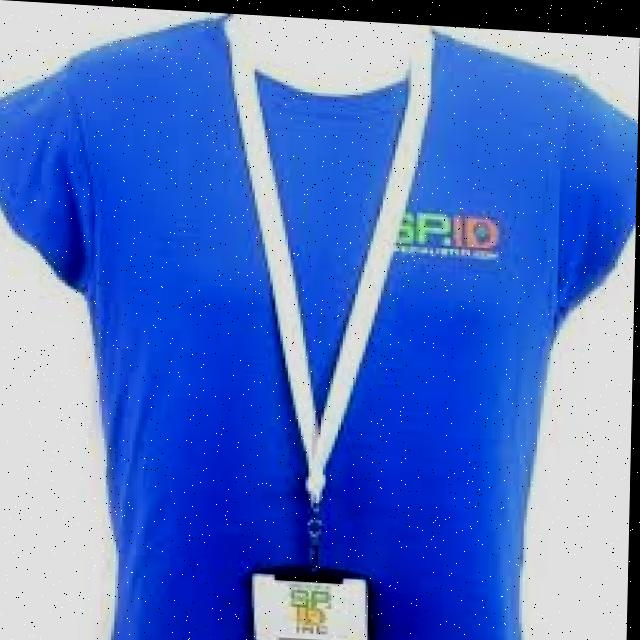id_card: (202, 25, 413, 640)
